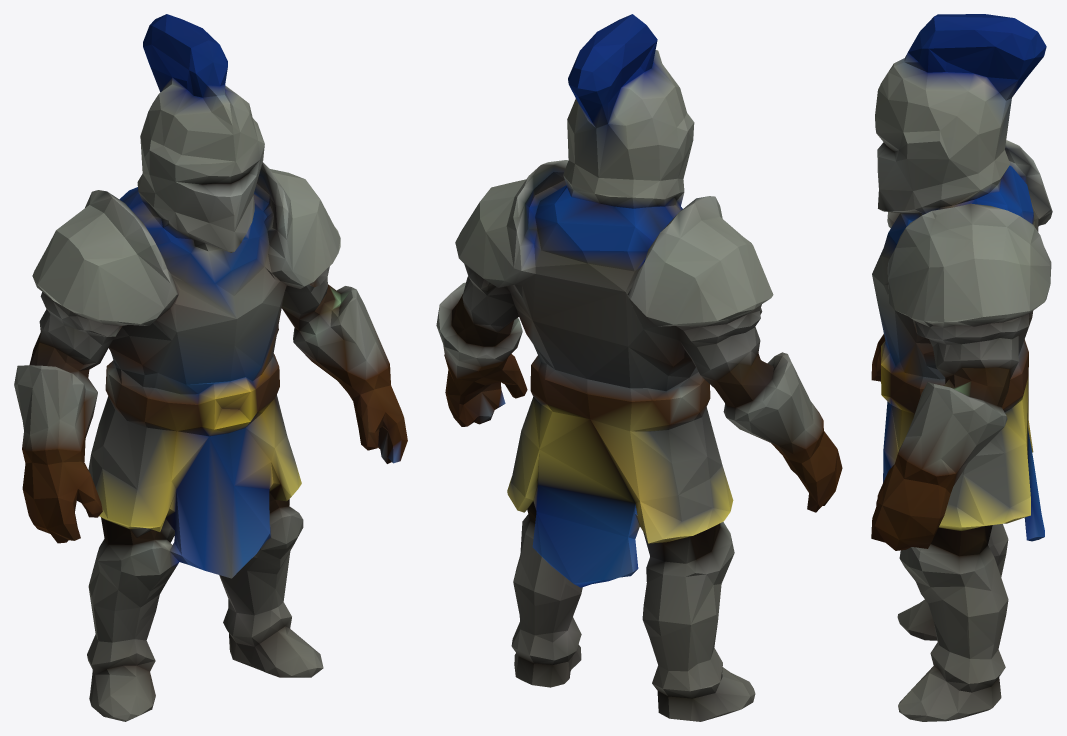
Rendered from knight_lowpoly.glb.
3 views of the same model, side by side, from view 1: azimuth 30°, elevation 25°; view 2: azimuth 150°, elevation 25°; view 3: azimuth 270°, elevation 25° (orthographic). The views are drawn at different scales.
Visible parts, largest first — view 1: knight_lowpoly; view 2: knight_lowpoly; view 3: knight_lowpoly.
Part boxes in pixels (x1,y1,x2,y2): knight_lowpoly: (14,14,407,721); knight_lowpoly: (436,14,842,721); knight_lowpoly: (871,14,1052,721).
Size of the model in its own units: 1.18 by 2 by 0.5019.
